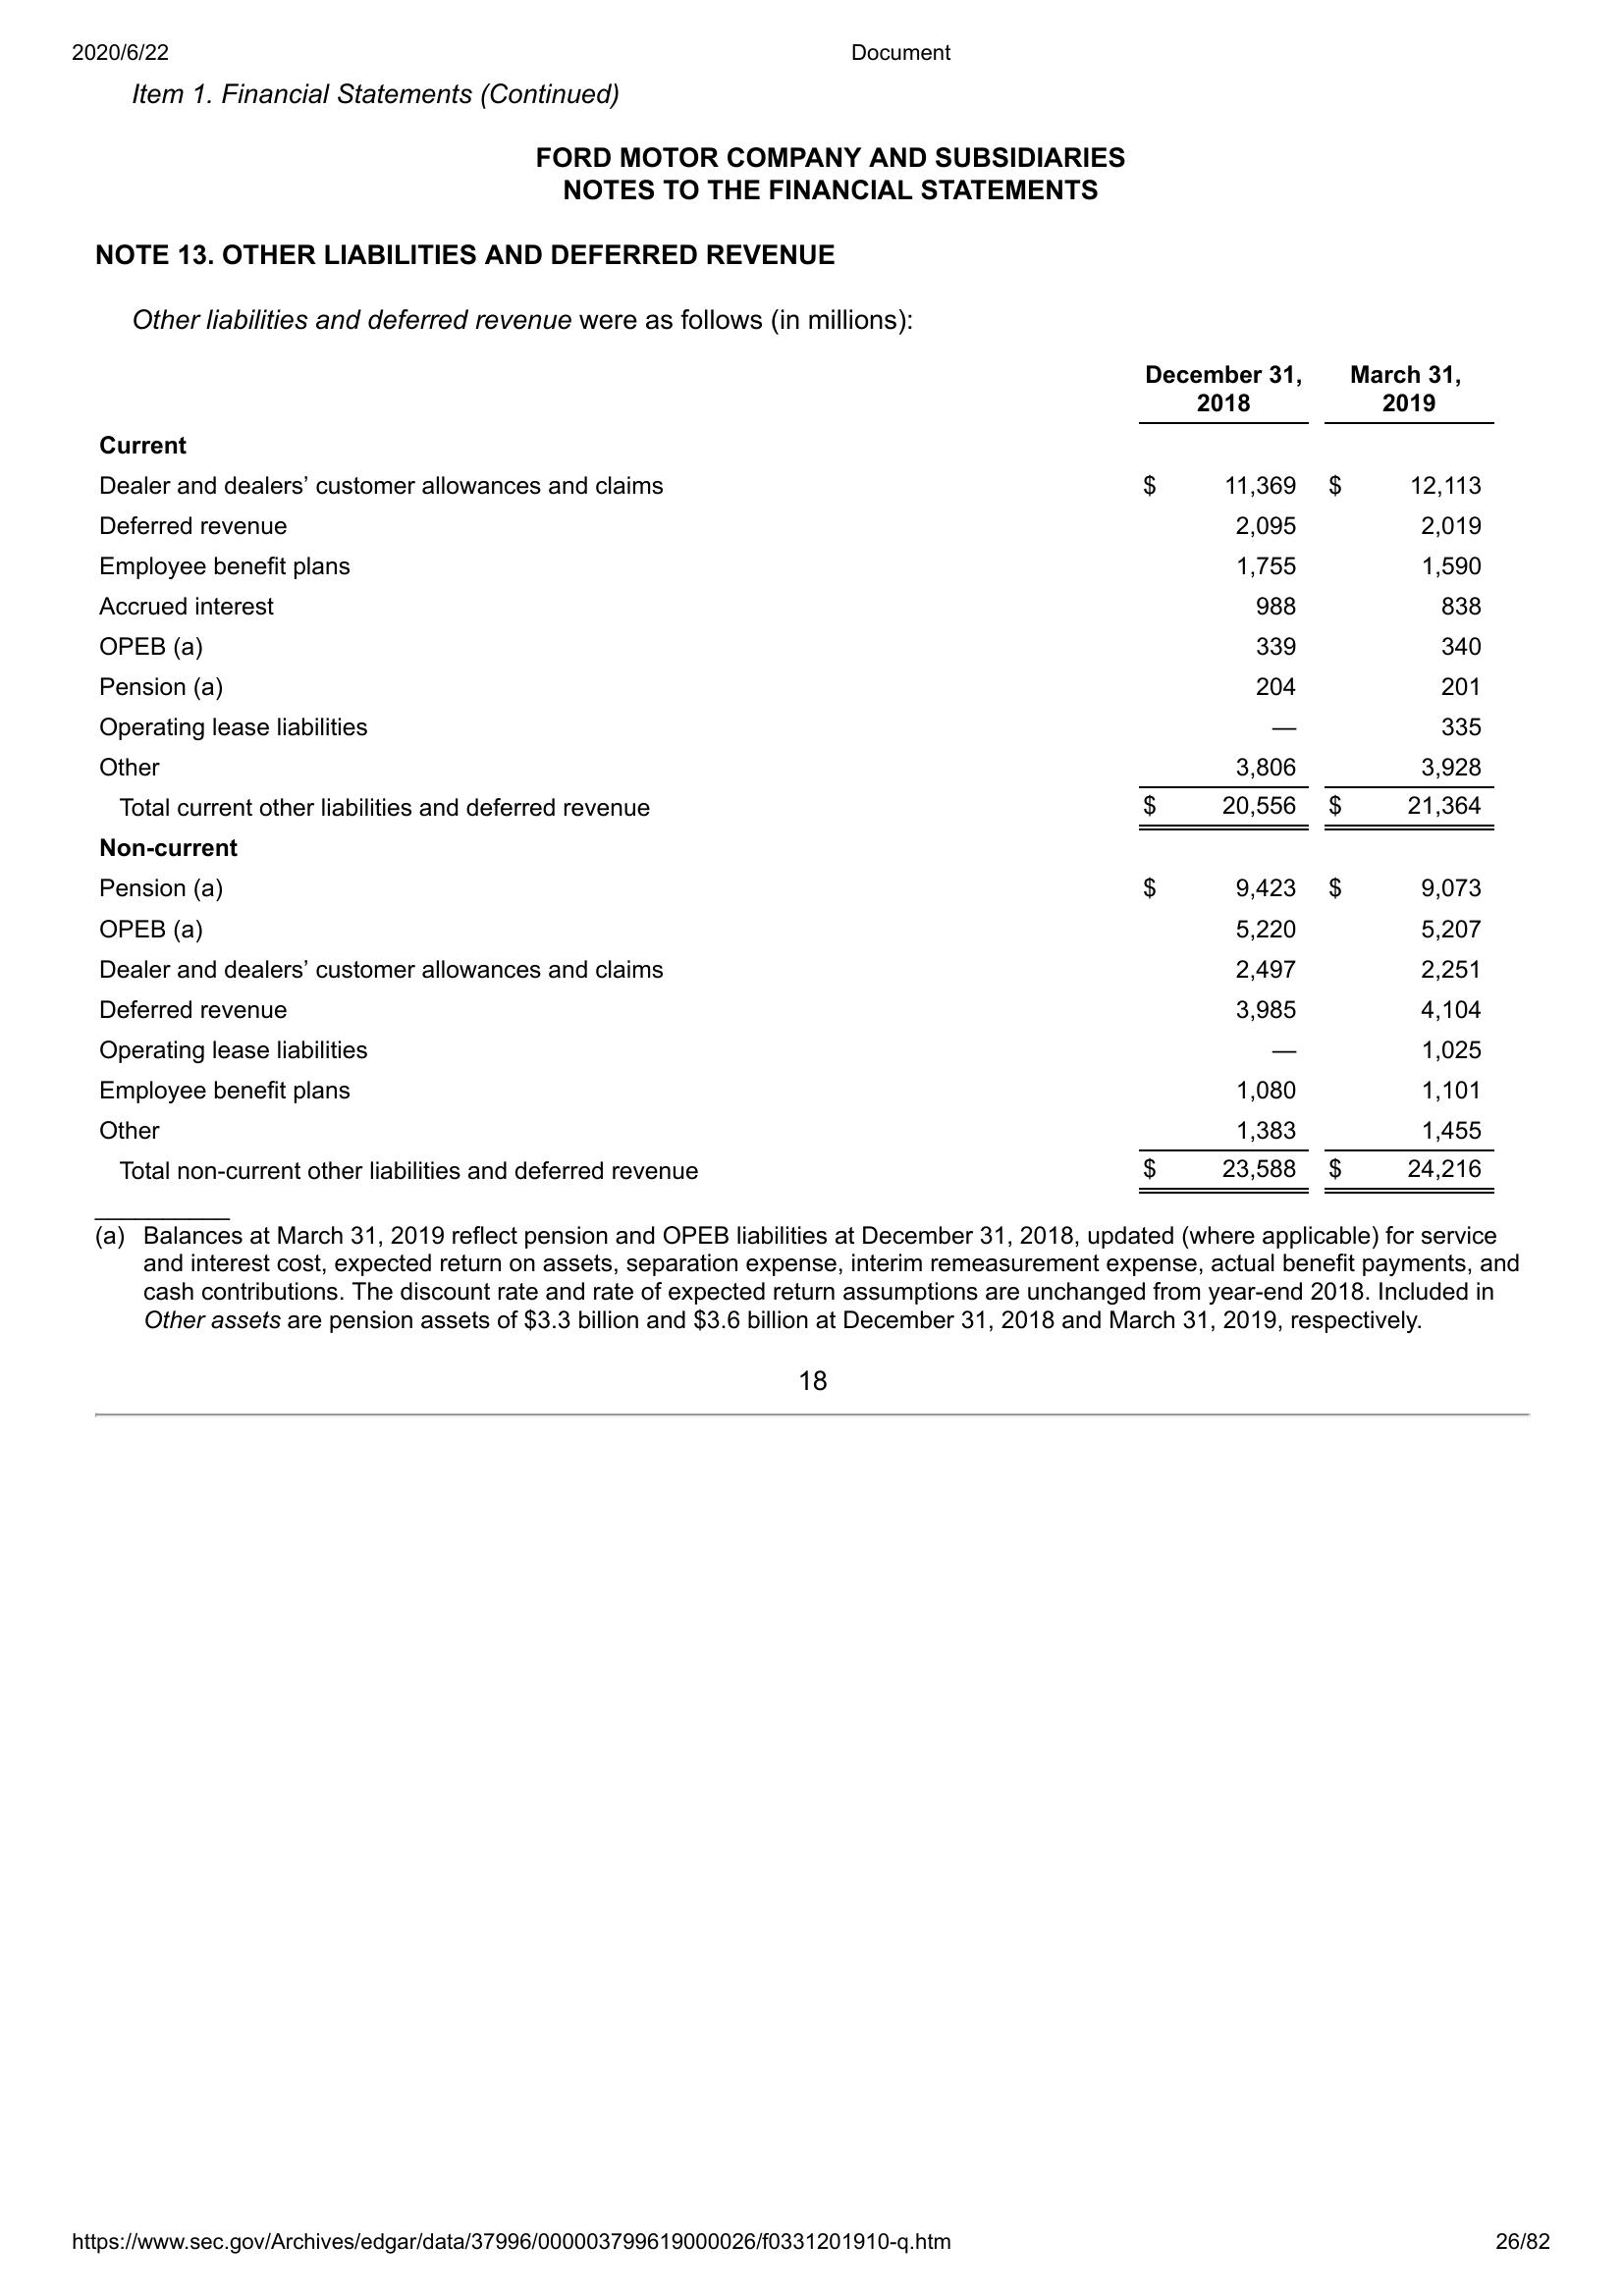table: (91, 353, 1509, 1204)
